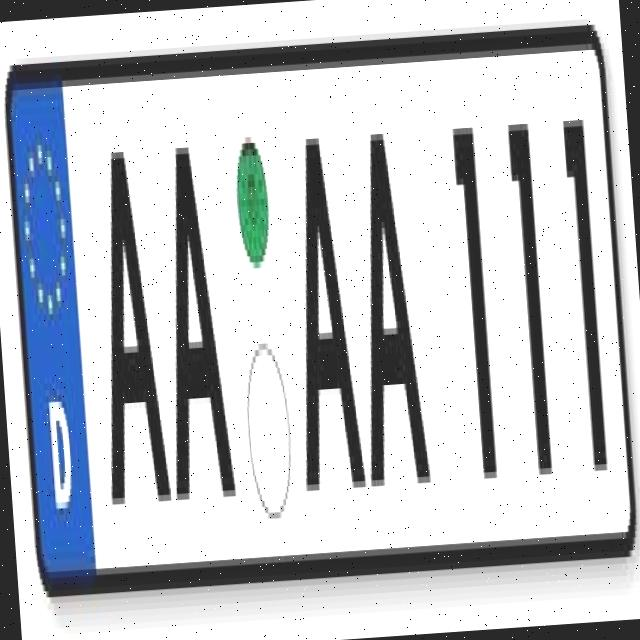Allemagne: (0, 71, 97, 584)
EU: (0, 0, 637, 586)
